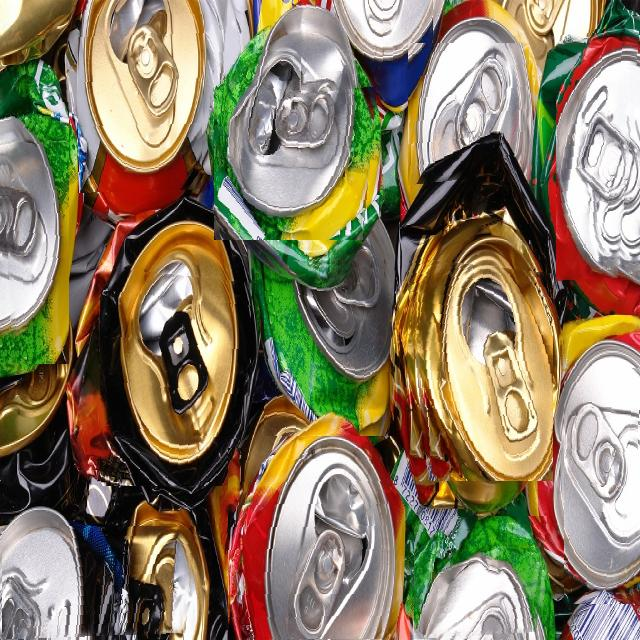Cans: (100, 267, 252, 486), (405, 257, 553, 481), (214, 46, 380, 240), (228, 448, 390, 640), (264, 257, 396, 436), (78, 14, 205, 193), (2, 526, 197, 640), (556, 29, 640, 282), (0, 83, 69, 364), (564, 364, 640, 604), (408, 43, 530, 186), (414, 516, 548, 640), (301, 0, 433, 94)
